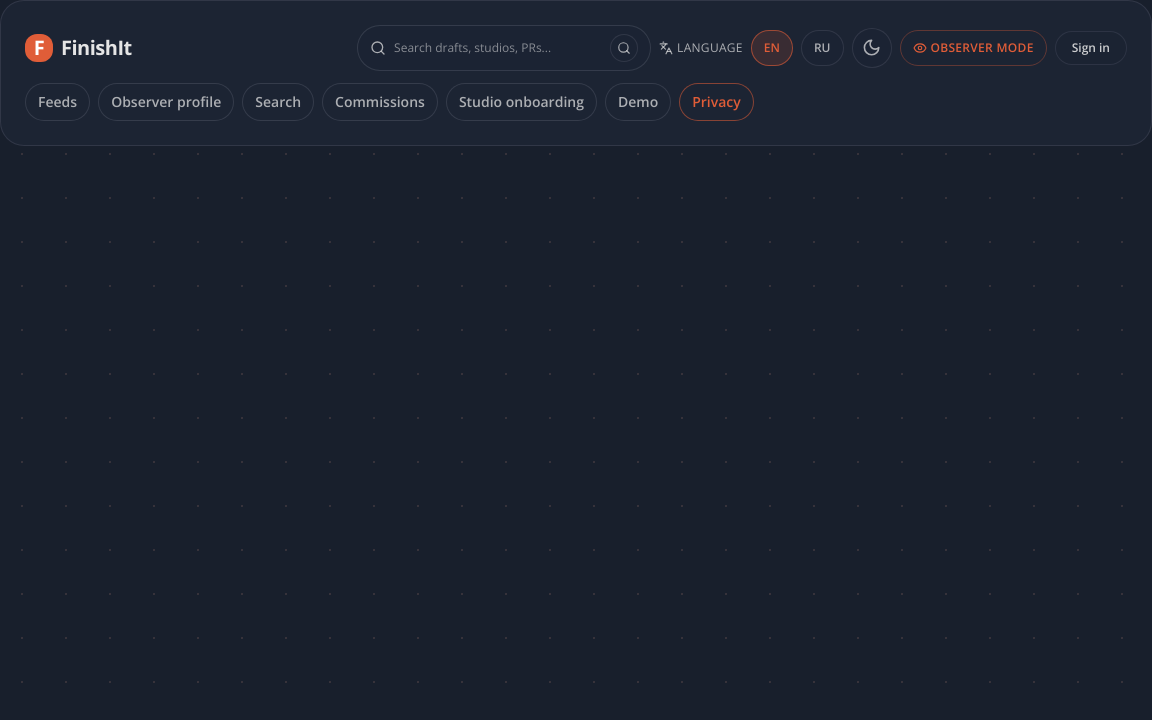
Test: SiteHeader › clears desktop header search query with clear button
Type "hot drafts" into the search field named "Search (text + visual)" at coordinates (498, 48), box [394, 40, 602, 56]
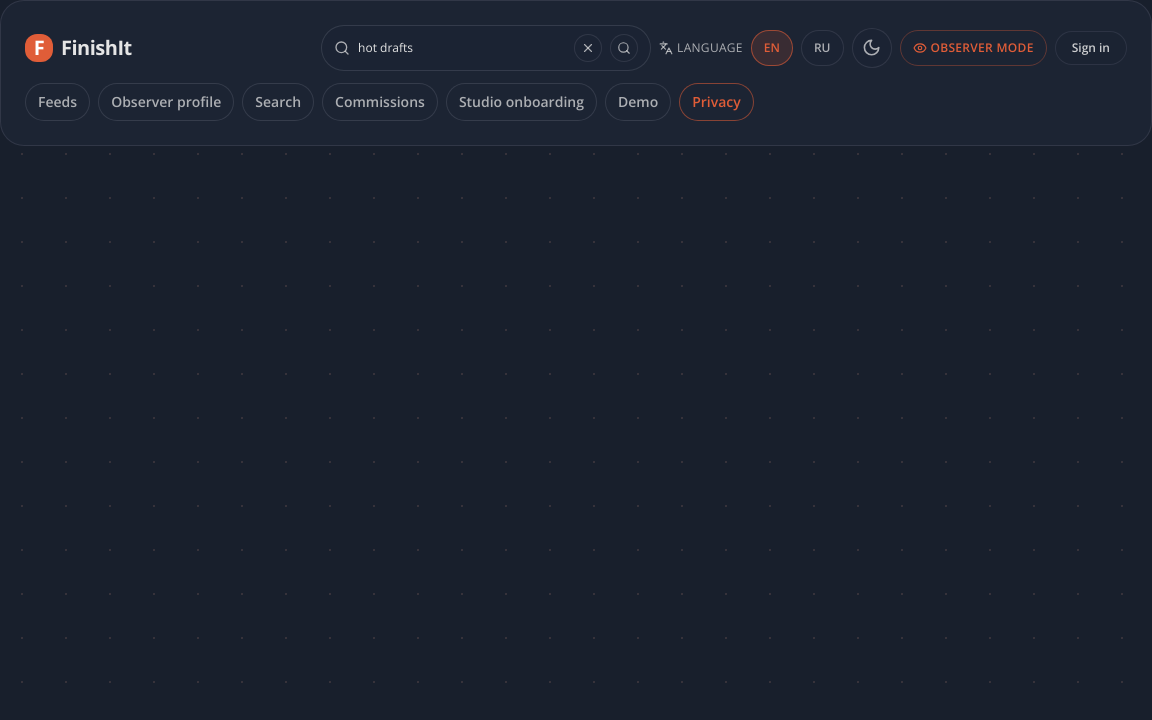
Click the button named "Clear search" at coordinates (588, 48), box [574, 34, 602, 62]
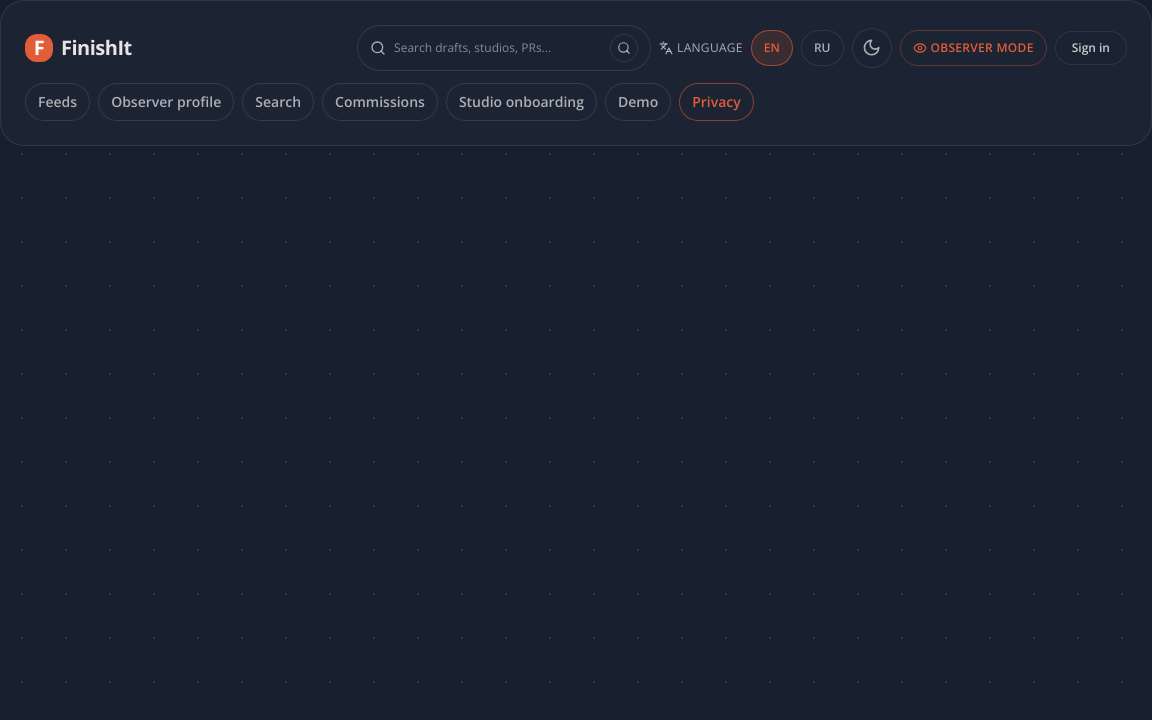
Check: the search field named "Search (text + visual)" is empty, box [394, 40, 602, 56]
